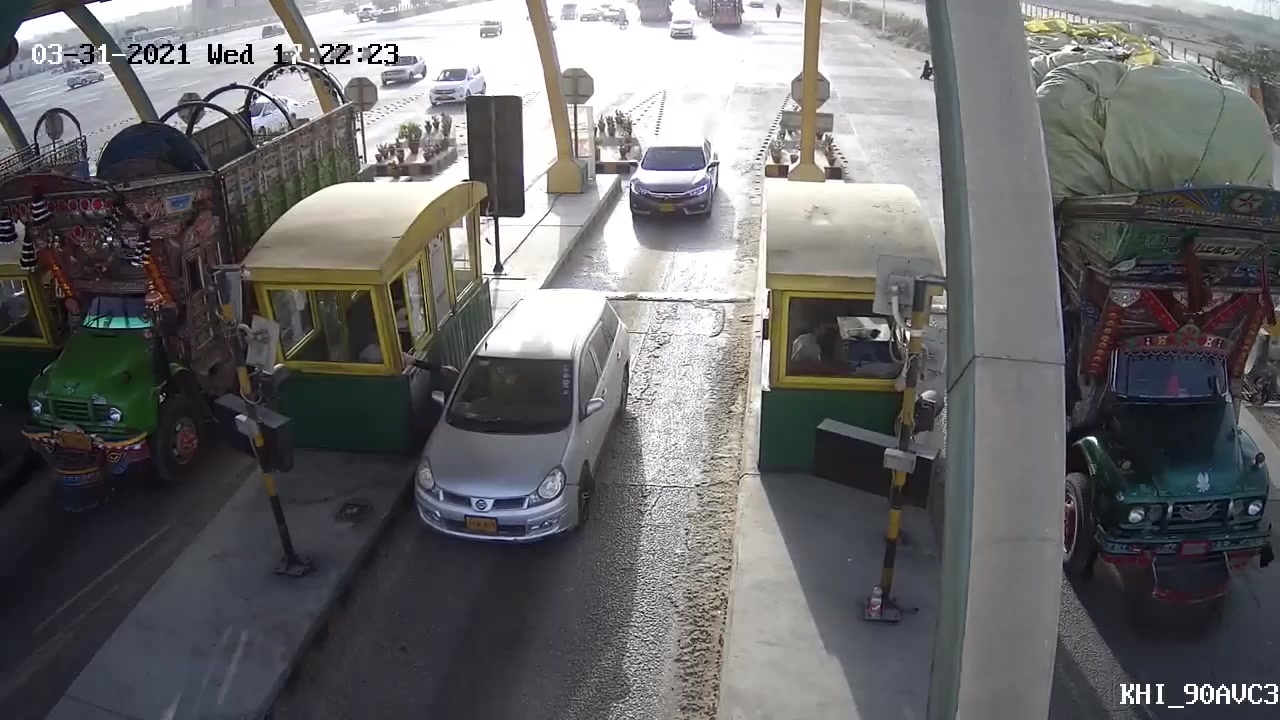F1: (392, 287, 641, 559)
